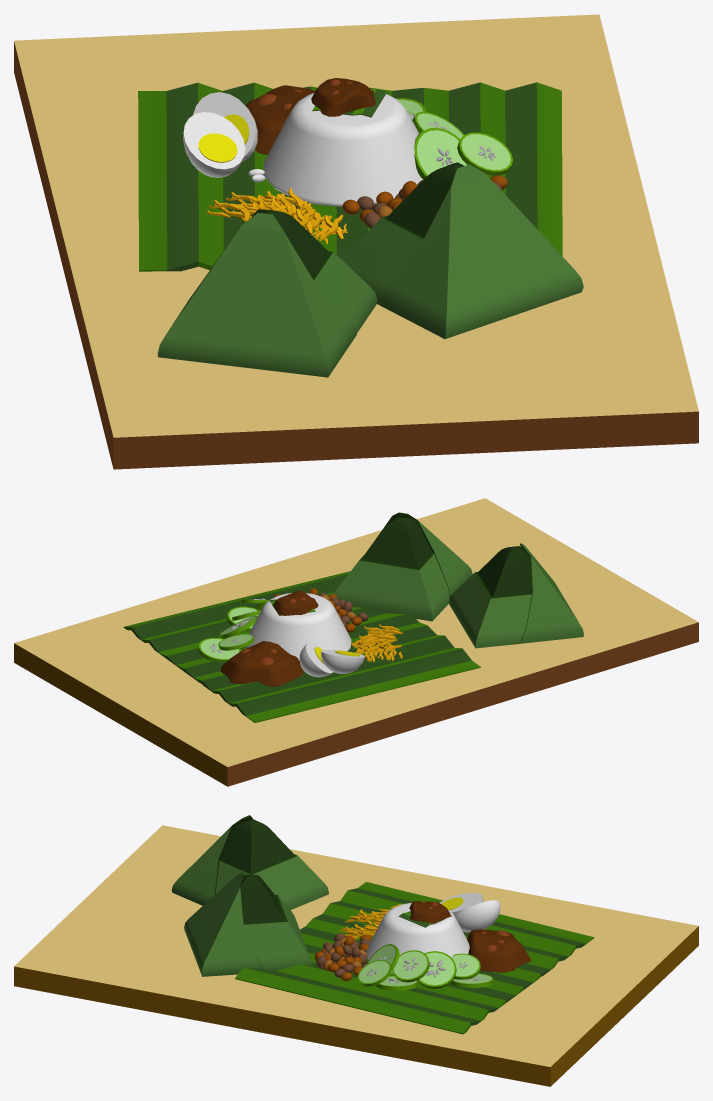
The model's file is nasi_lemak.fbx.
3 renders of one model, top to bottom at view 1: azimuth 30°, elevation 25°; view 2: azimuth 150°, elevation 25°; view 3: azimuth 270°, elevation 25°, orthographic. The views are drawn at different scales.
Visible parts, largest first — view 1: pCube18, pandan, pCube17, pCube16, RICE, cucumber2, pSphere1, sambal, sambal1, polySurface16, pSphere3; view 2: pCube18, pandan, pCube16, pCube17, RICE, sambal, cucumber2, sambal1, pSphere1, polySurface16; view 3: pCube18, pandan, pCube17, pCube16, cucumber2, RICE, sambal, polySurface16, sambal1.
Part boxes in pixels (bbox=[...]): pCube18: bbox=[14, 14, 698, 469]; pandan: bbox=[138, 82, 562, 271]; pCube17: bbox=[341, 162, 583, 338]; pCube16: bbox=[157, 209, 377, 377]; RICE: bbox=[263, 89, 422, 206]; cucumber2: bbox=[395, 98, 512, 179]; pSphere1: bbox=[183, 112, 245, 177]; sambal: bbox=[246, 85, 315, 154]; sambal1: bbox=[311, 78, 375, 116]; polySurface16: bbox=[193, 92, 257, 161]; pSphere3: bbox=[198, 133, 237, 162]; pCube18: bbox=[14, 498, 698, 786]; pandan: bbox=[123, 571, 480, 722]; pCube16: bbox=[449, 543, 583, 648]; pCube17: bbox=[333, 512, 472, 621]; RICE: bbox=[246, 593, 351, 660]; sambal: bbox=[220, 641, 303, 686]; cucumber2: bbox=[198, 598, 268, 661]; sambal1: bbox=[273, 590, 318, 615]; pSphere1: bbox=[321, 650, 364, 673]; polySurface16: bbox=[299, 642, 332, 677]; pCube18: bbox=[14, 825, 698, 1086]; pandan: bbox=[235, 882, 594, 1034]; pCube17: bbox=[184, 872, 312, 976]; pCube16: bbox=[171, 815, 328, 909]; cucumber2: bbox=[357, 944, 493, 990]; RICE: bbox=[366, 902, 469, 973]; sambal: bbox=[467, 929, 531, 972]; polySurface16: bbox=[455, 900, 500, 932]; sambal1: bbox=[409, 901, 450, 923].
Bounding box in the file's own units: 14.45 × 2.68 × 17.29.
